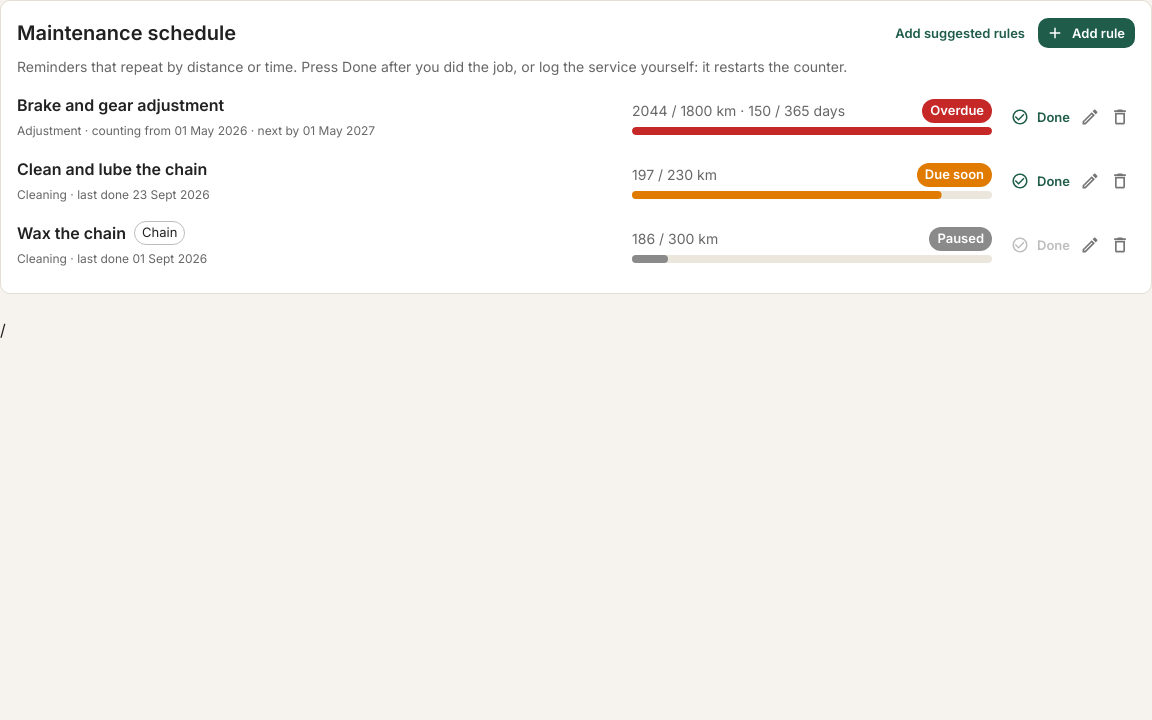
Test case: MaintenanceSection › deleting asks first and keeps logged services
Expected: the text "Brake and gear adjustment" is shown, left=17, top=93, right=224, bottom=117
Step 1. Click the button named "Delete Brake and gear adjustment" → (1120, 117), box left=1105, top=102, right=1135, bottom=132
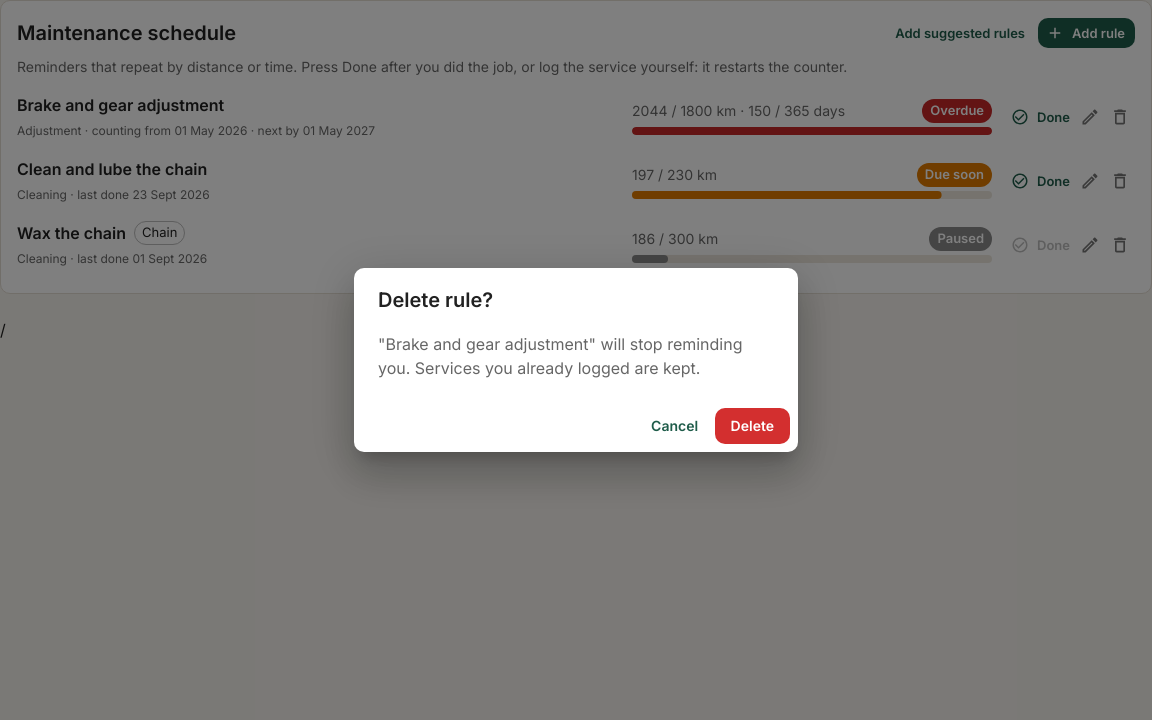
Result: the text "Services you already logged are kept" is shown at left=378, top=334, right=742, bottom=378
Step 2. Click the button "Cancel" → (675, 426), box left=643, top=408, right=707, bottom=444
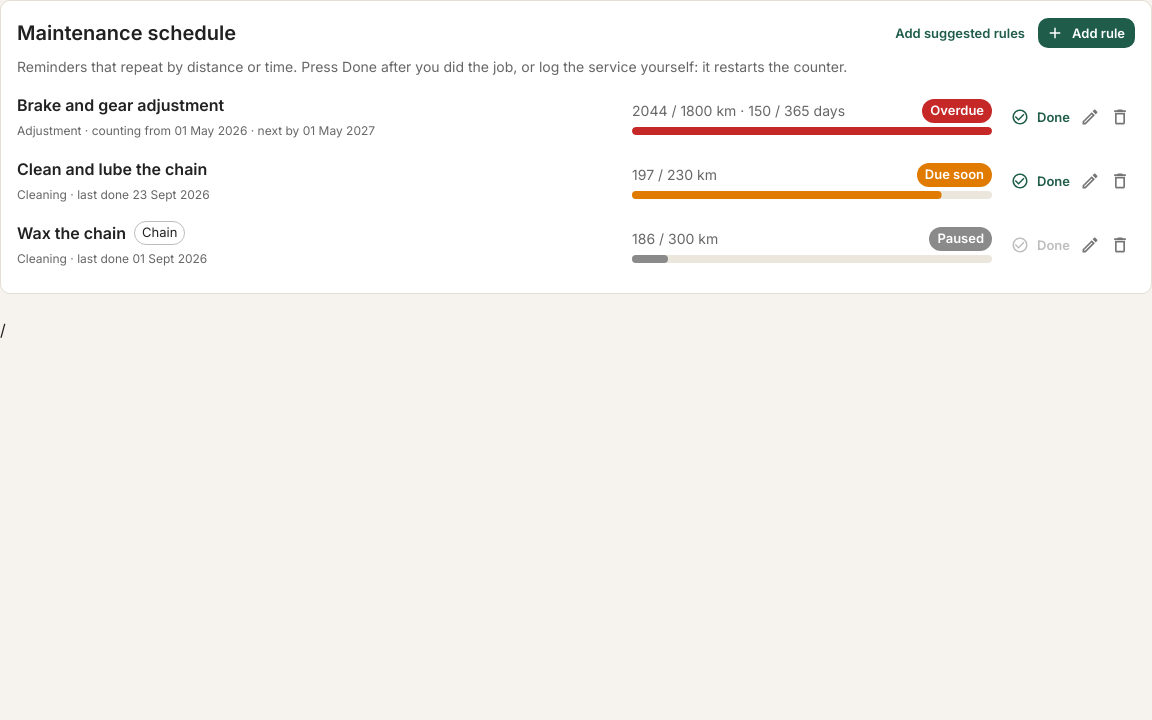
Result: the dialog is gone
Step 3. Click the button named "Delete Brake and gear adjustment" → (1120, 117), box left=1105, top=102, right=1135, bottom=132
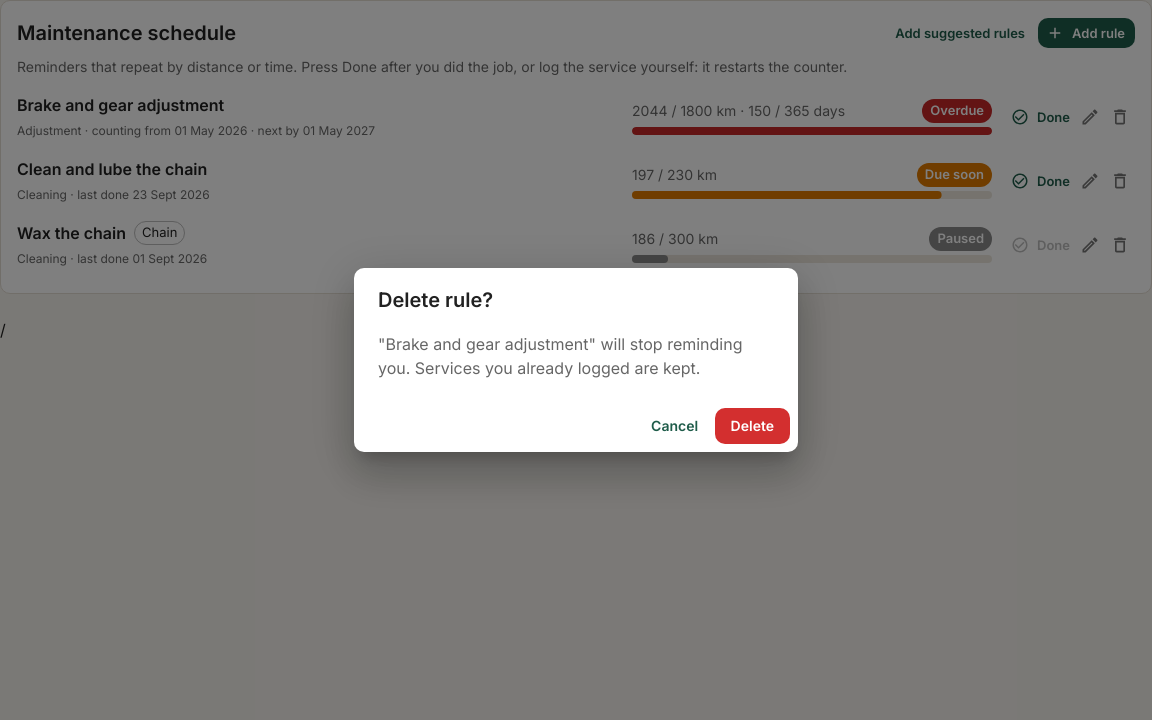
Step 4. Click the button "Delete" → (752, 426), box left=715, top=408, right=790, bottom=444
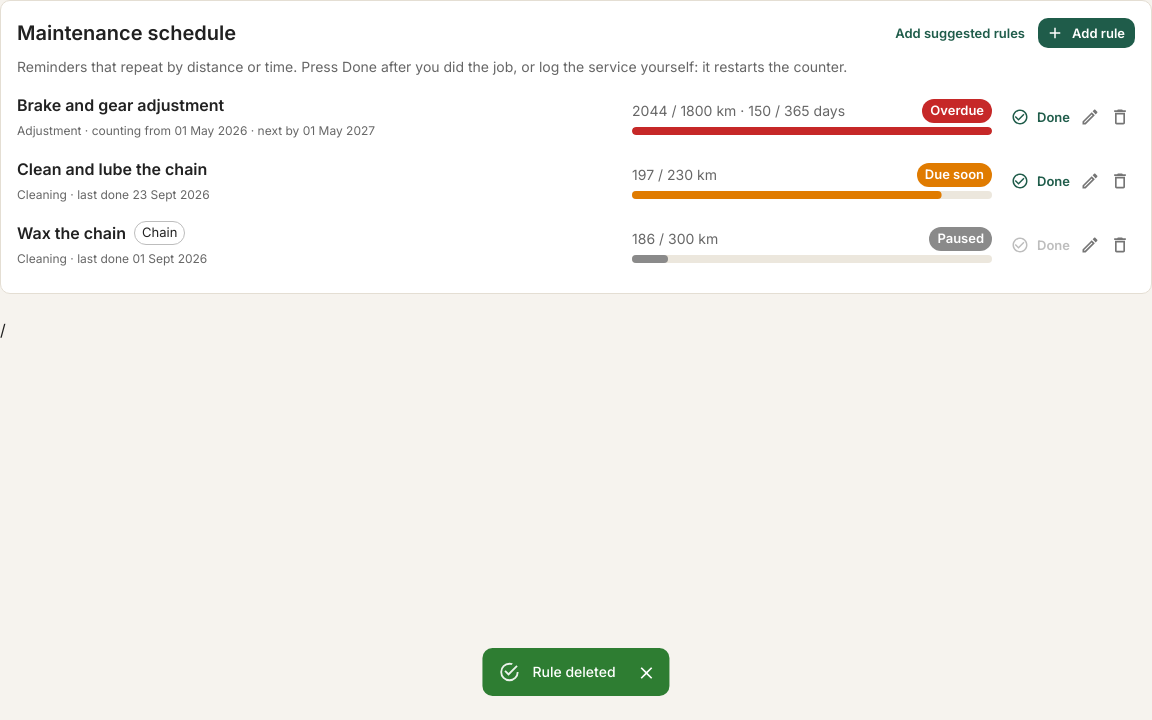
Result: the text "Rule deleted" is shown at left=532, top=663, right=616, bottom=680
